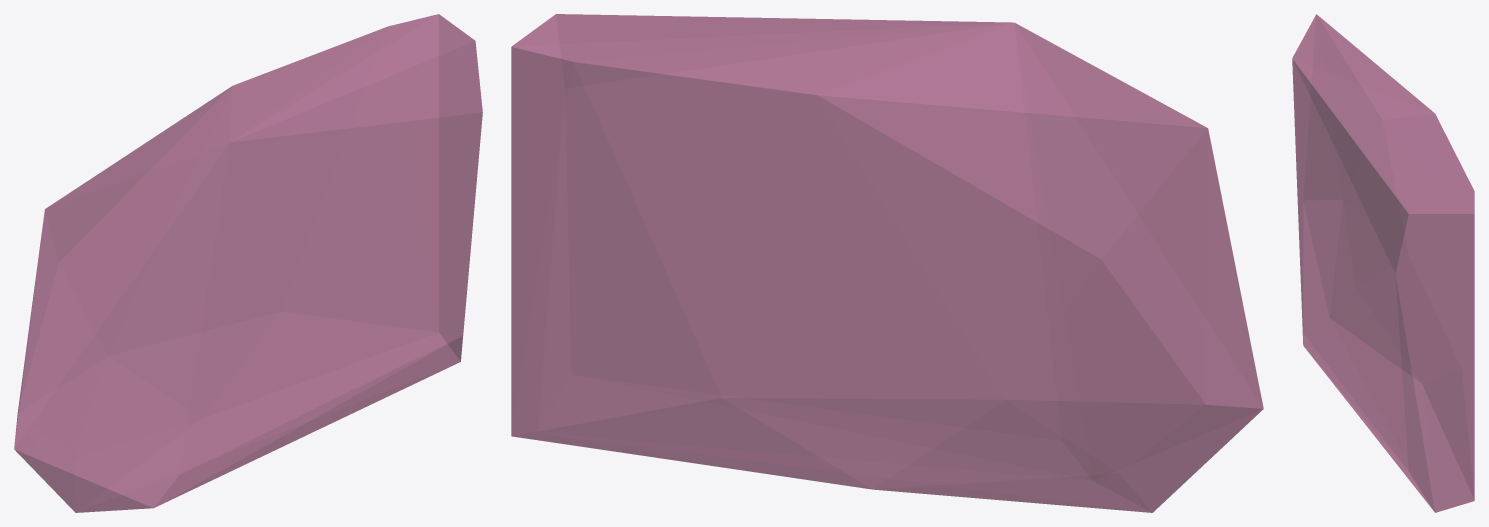
3 views of the same model, side by side, from view 1: azimuth 30°, elevation 25°; view 2: azimuth 150°, elevation 25°; view 3: azimuth 270°, elevation 25° (orthographic). The views are drawn at different scales.
Parts seen in each view (by area): view 1: Shape_IndexedFaceSet.037_Shape_IndexedFaceSet.10747; view 2: Shape_IndexedFaceSet.037_Shape_IndexedFaceSet.10747; view 3: Shape_IndexedFaceSet.037_Shape_IndexedFaceSet.10747.
Boxes of the visible parts, bbox=[...] form: Shape_IndexedFaceSet.037_Shape_IndexedFaceSet.10747: bbox=[14, 14, 482, 512]; Shape_IndexedFaceSet.037_Shape_IndexedFaceSet.10747: bbox=[511, 14, 1263, 512]; Shape_IndexedFaceSet.037_Shape_IndexedFaceSet.10747: bbox=[1292, 14, 1474, 512].
Size of the model in its own units: 0.1354 by 0.0879 by 0.0457.
